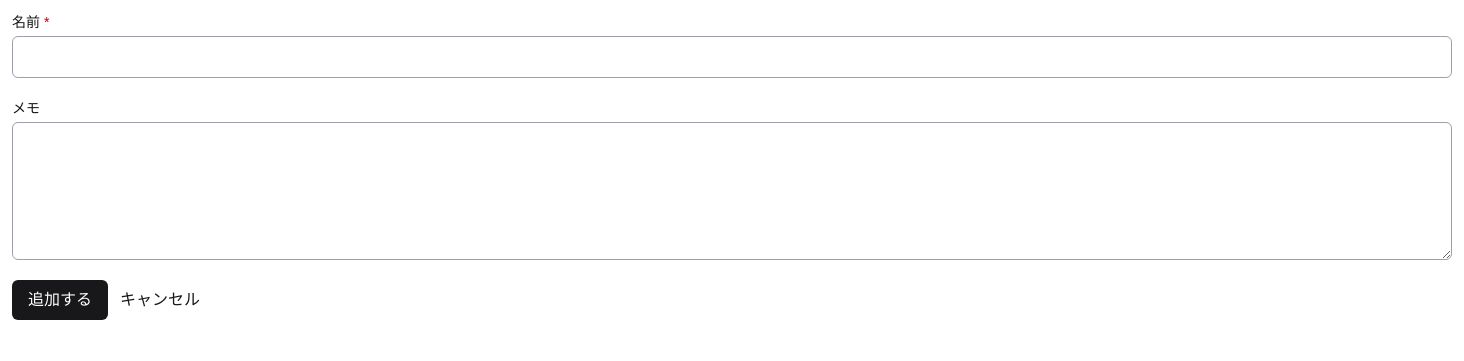
Test case: CustomerForm の画面の検証 › エラーの出た項目は、入力して直すとエラーが消える
Click the button "追加する" at (60, 300), box [12,280,108,320]
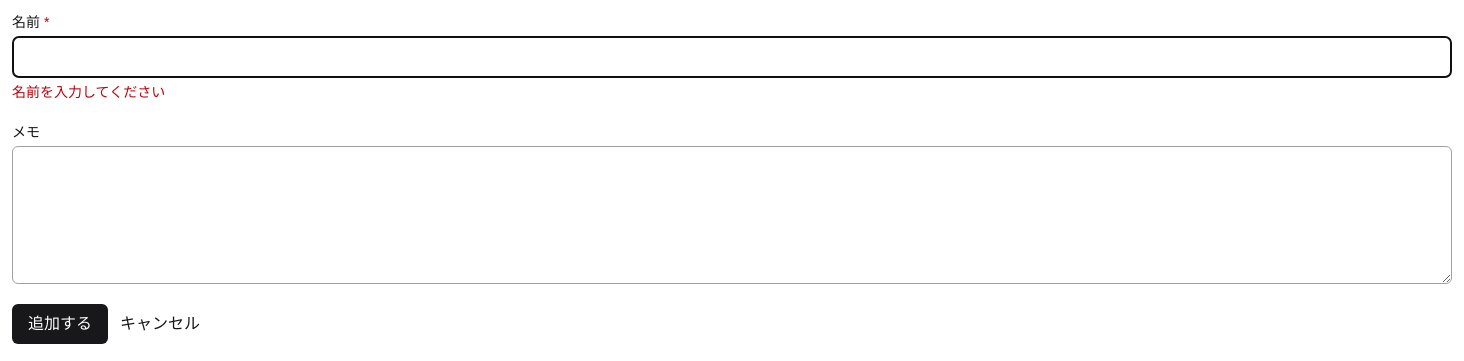
Check: the text "名前を入力してください" is shown, box [12,84,165,100]
Type "山田商店" into the field labelled "名前 *" at (732, 57), box [12,36,1452,78]
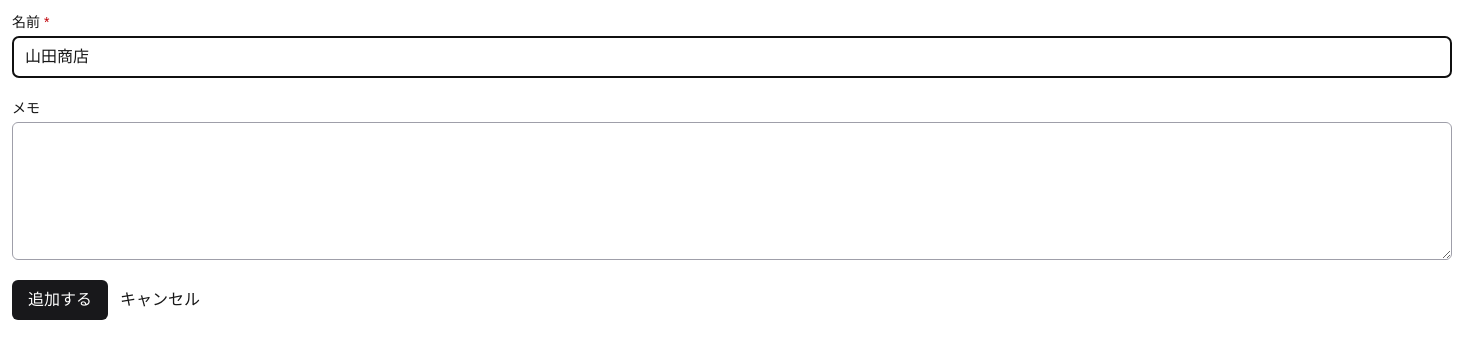
Check: the text "名前を入力してください" is gone
